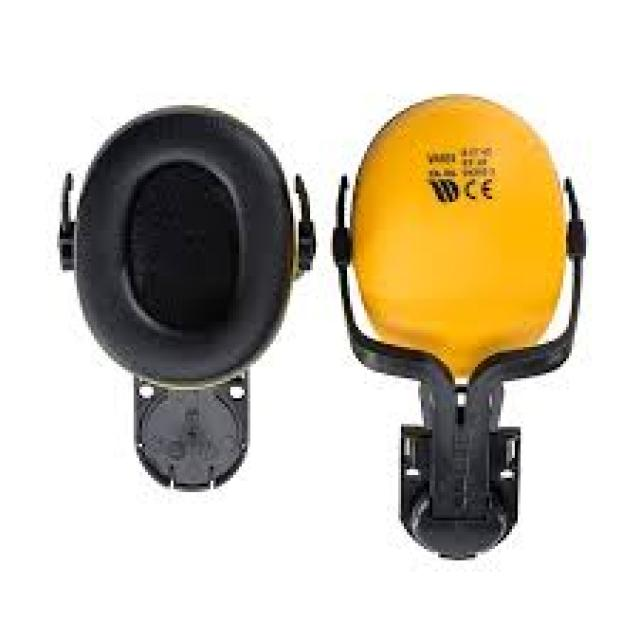Ear-Protection: (63, 92, 311, 482), (347, 94, 569, 387)
